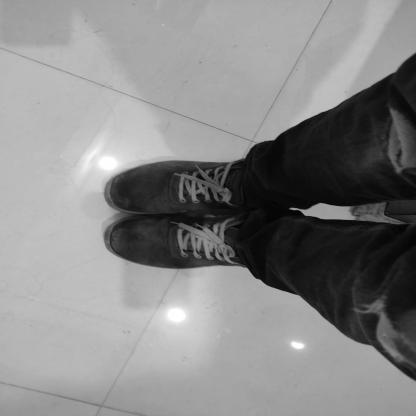ankle: (238, 191, 241, 193), (231, 251, 234, 253)
heel: (240, 266, 243, 267), (247, 209, 249, 210)
left_foot: (107, 215, 280, 273)
pinky: (139, 171, 144, 173), (141, 260, 144, 263)
right_foot: (107, 161, 271, 213)
toe: (128, 223, 132, 226), (121, 204, 123, 207)
